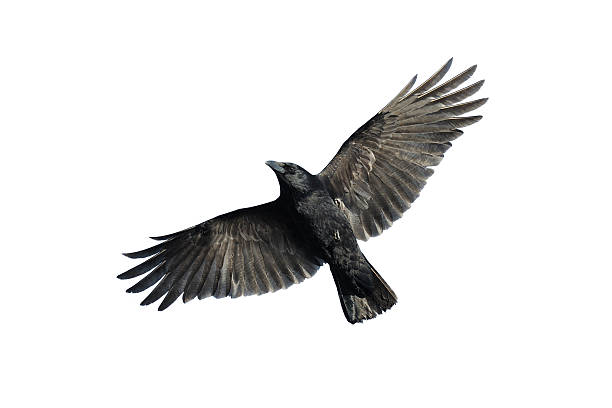Bird: (116, 53, 489, 328)
